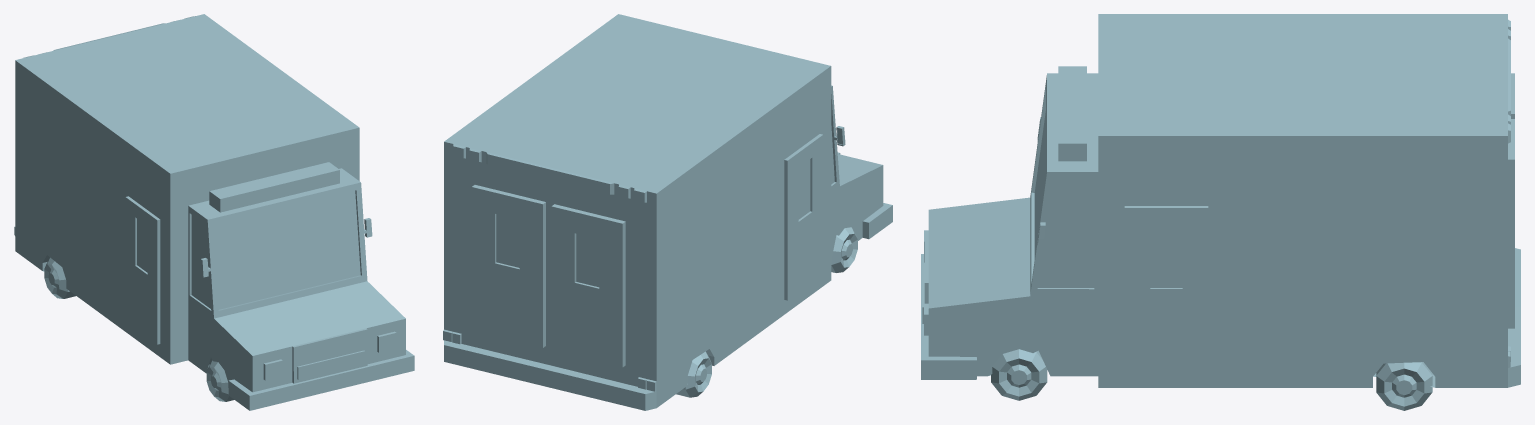
The model's file is cc0-ambulance-lod1.glb.
3 renders of one model, left to right at view 1: azimuth 30°, elevation 25°; view 2: azimuth 150°, elevation 25°; view 3: azimuth 270°, elevation 25°, orthographic. The views are drawn at different scales.
Visible parts, largest first — view 1: part_0; view 2: part_0; view 3: part_0.
Boxes of the visible parts, x1,y1,x2,y2 form: part_0: (14, 14, 414, 410); part_0: (443, 14, 892, 410); part_0: (921, 14, 1520, 410).
Bounding box in the file's own units: 2.84 × 2.91 × 5.72.
